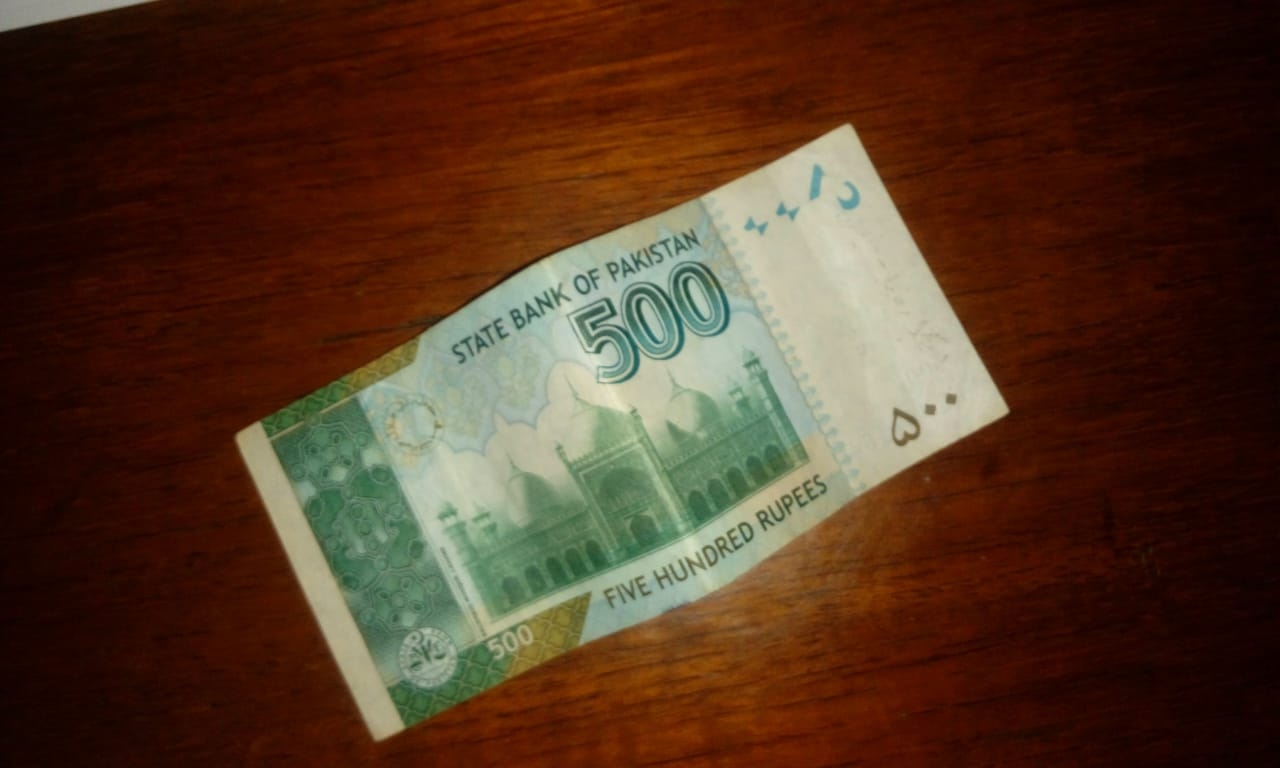500 rupee: (225, 118, 1082, 746)
